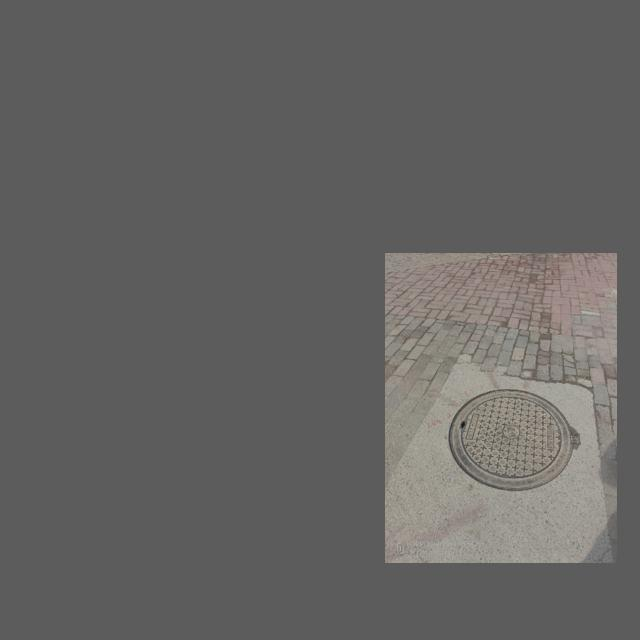good: (451, 387, 573, 492)
